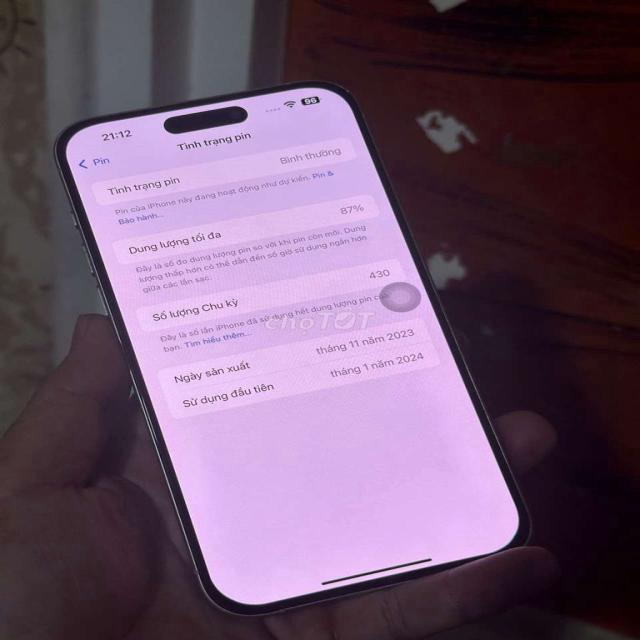gen_15: (60, 84, 537, 617)
